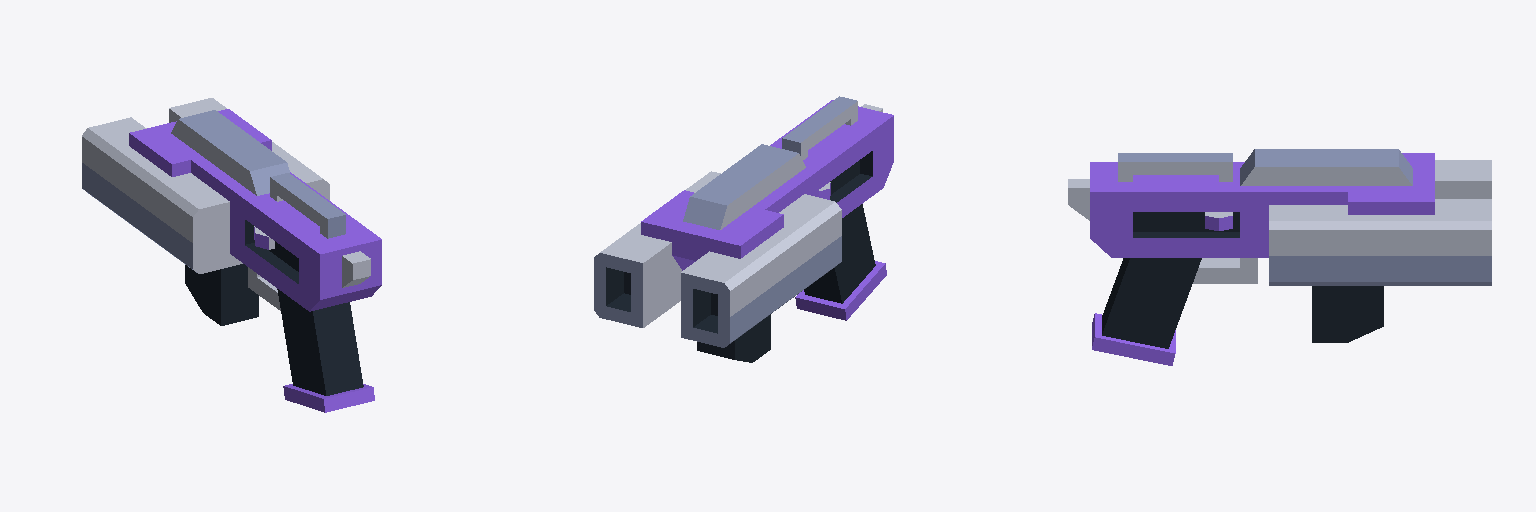
The model's file is blasterL.obj.
The picture shows the model from 3 angles: view 1: azimuth 30°, elevation 25°; view 2: azimuth 150°, elevation 25°; view 3: azimuth 270°, elevation 25°; orthographic projection.
Visible parts, largest first — view 1: blasterL; view 2: blasterL; view 3: blasterL.
Part boxes in pixels (bbox=[...]): blasterL: bbox=[82, 98, 381, 412]; blasterL: bbox=[594, 96, 893, 362]; blasterL: bbox=[1068, 149, 1491, 365].
Size of the model in its own units: 0.22 by 0.3017 by 0.59.